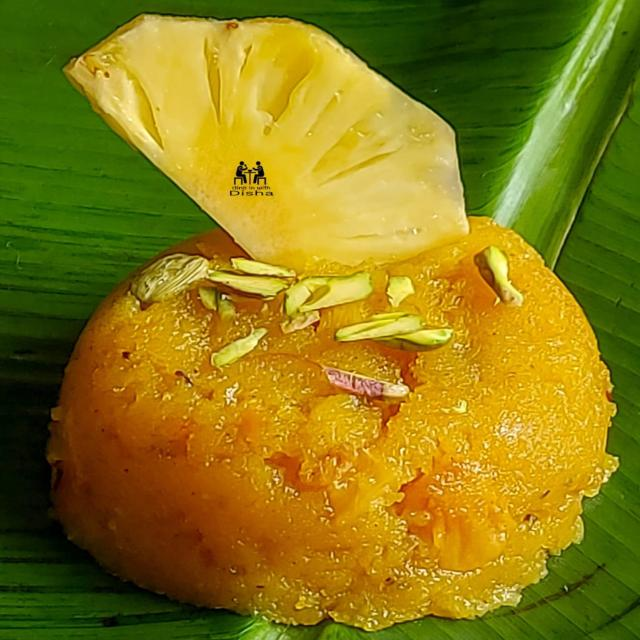kesari bath: (29, 200, 640, 640)
